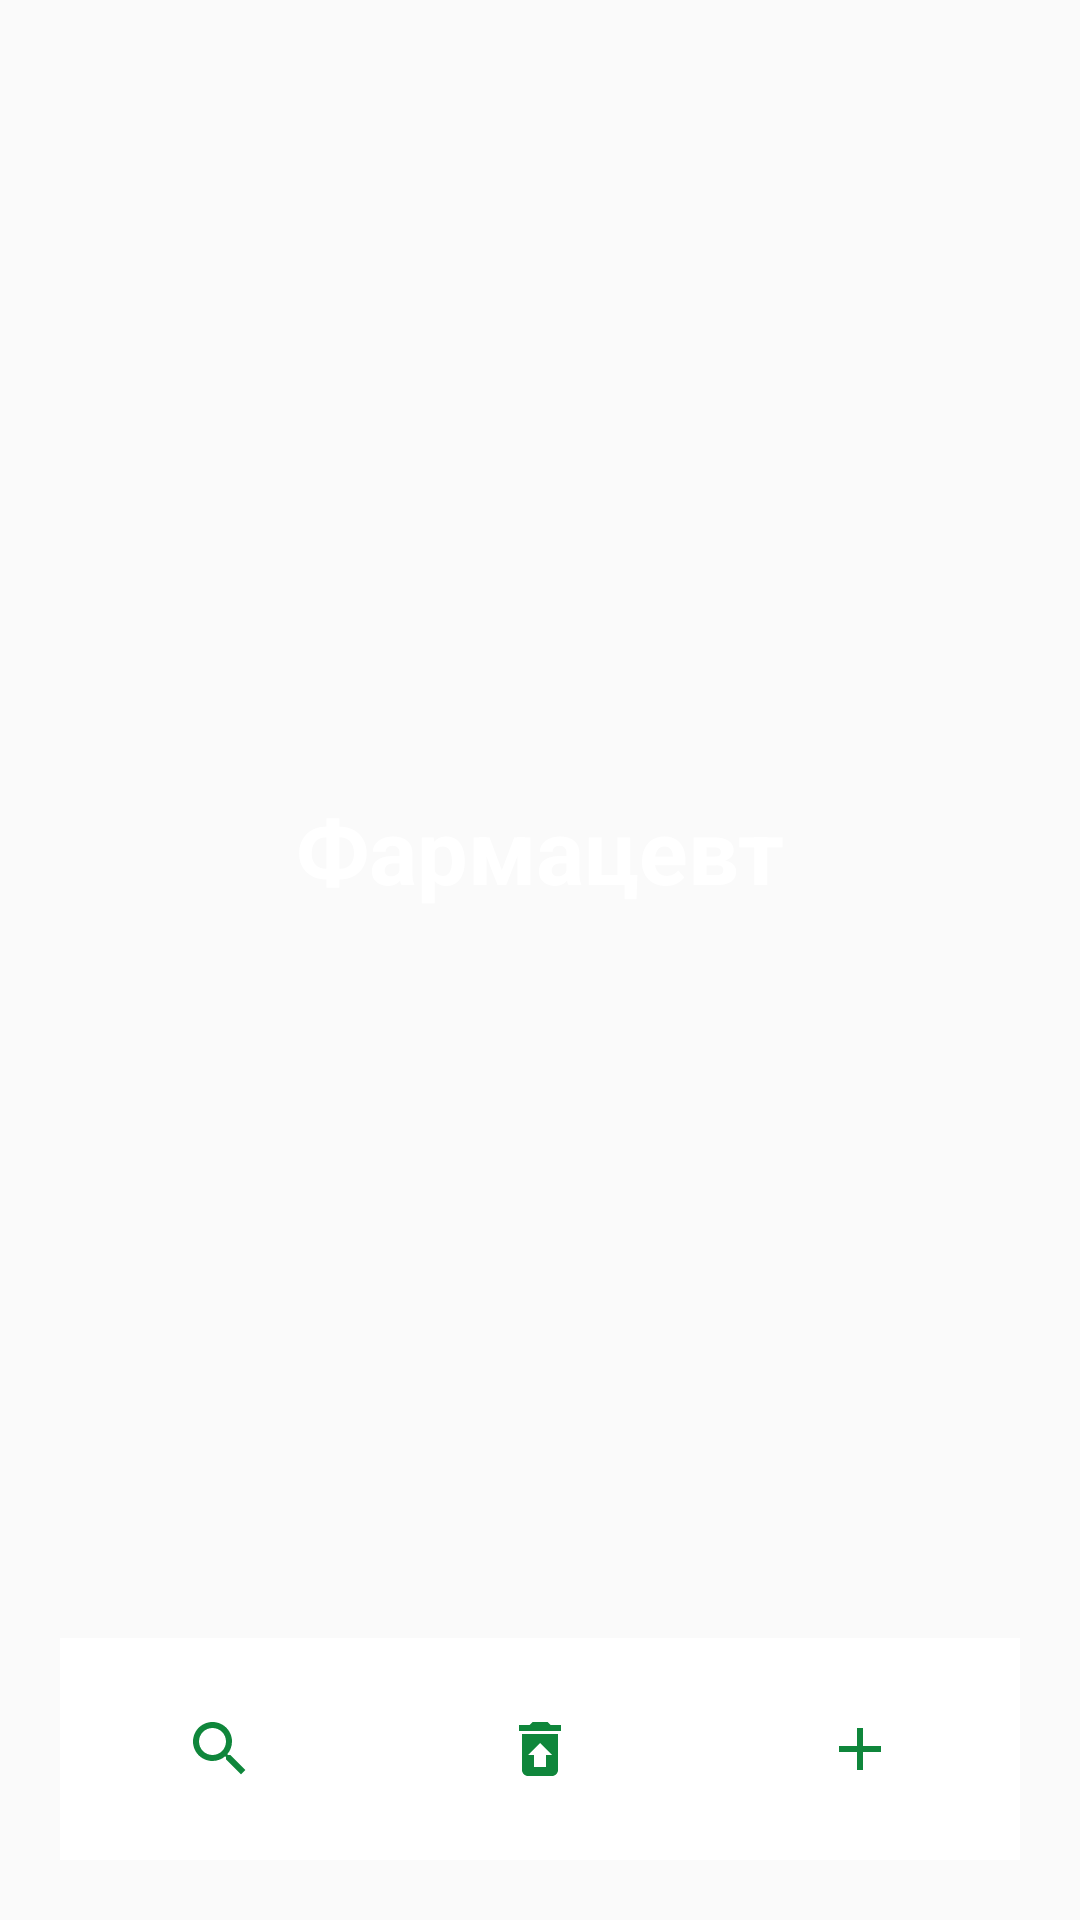

Where icons sit on this 1080×1920 app screen, as bbox=[x1, y1, x2, y2]:
add: bbox=[839, 1728, 881, 1770]
restore from trash: bbox=[519, 1722, 561, 1776]
search: bbox=[193, 1722, 245, 1774]
